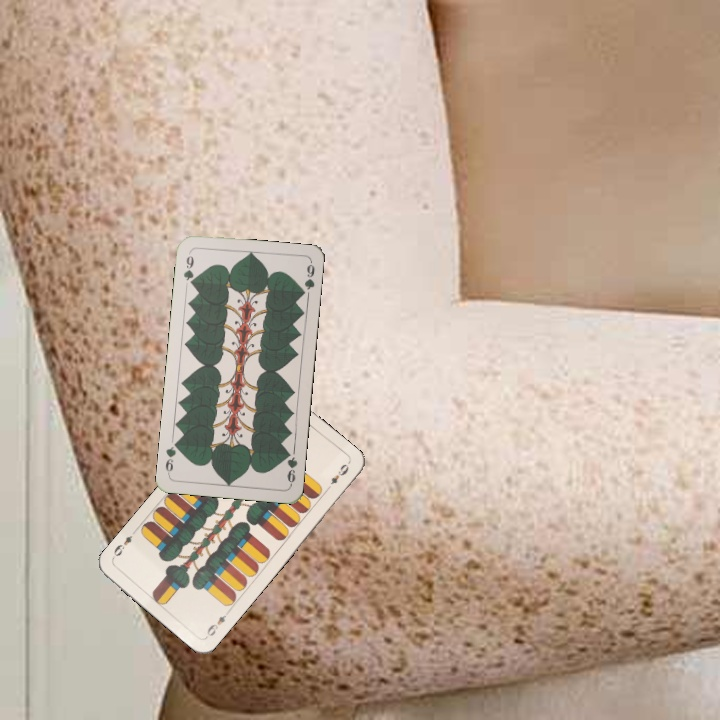E9: (202, 606, 232, 640)
G9: (282, 447, 300, 488), (180, 248, 196, 289)
